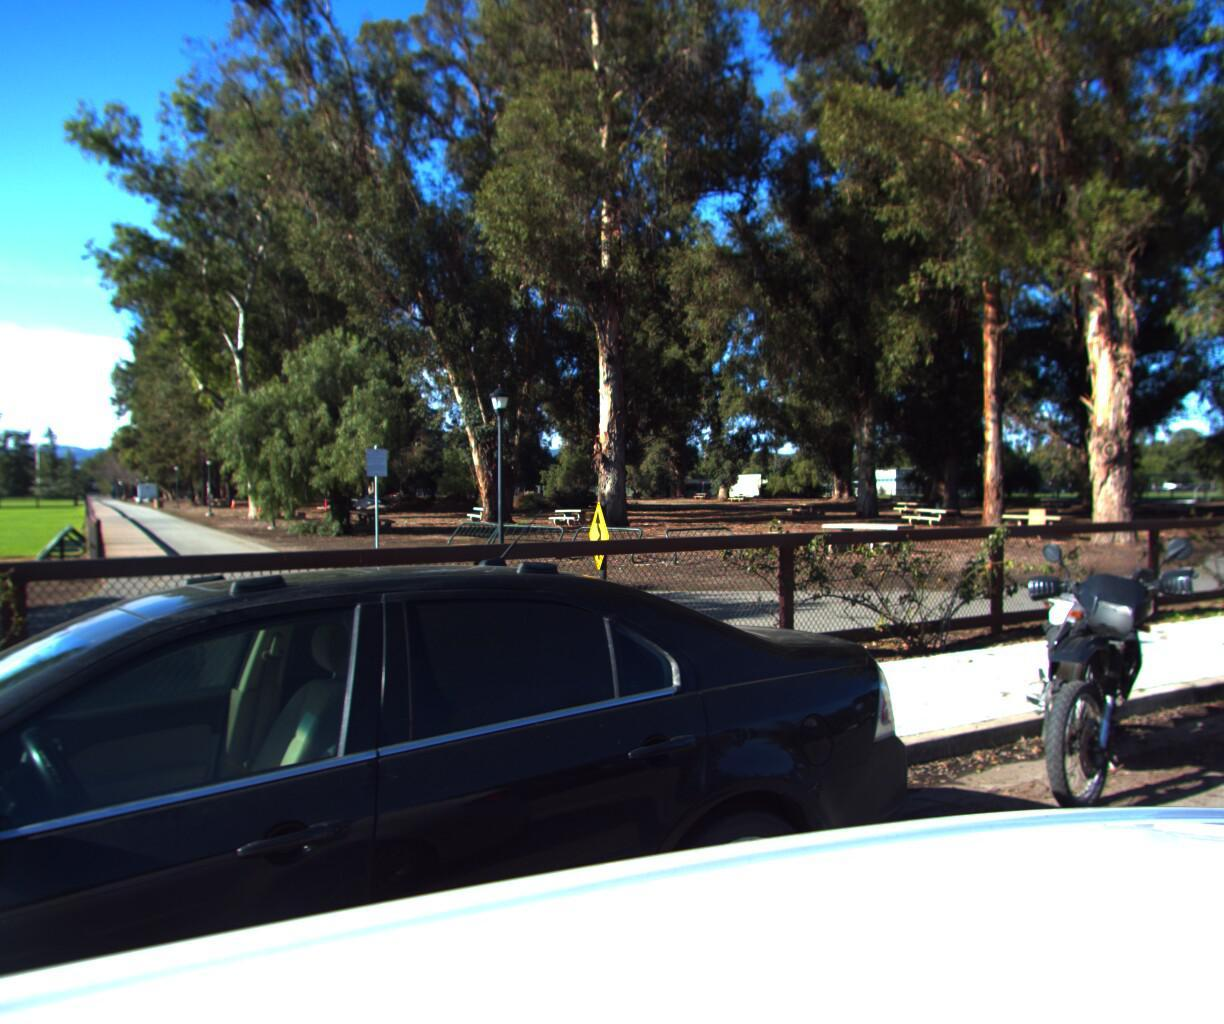car: (0, 533, 984, 1024), (1198, 496, 1224, 762)
motorcycle: (979, 508, 1224, 891)
